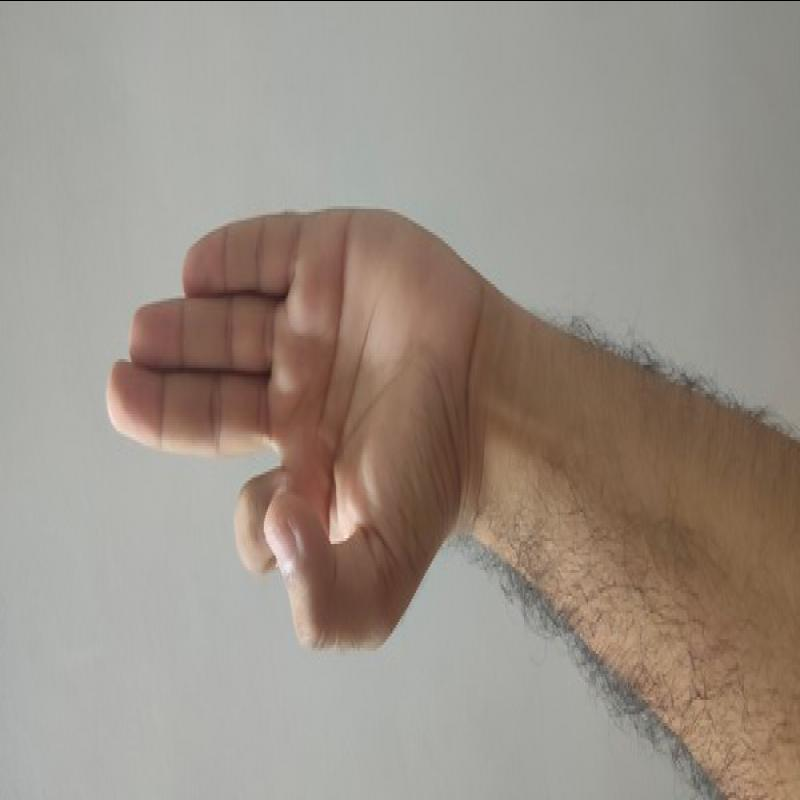Mudraakhyam: (84, 194, 491, 661)
